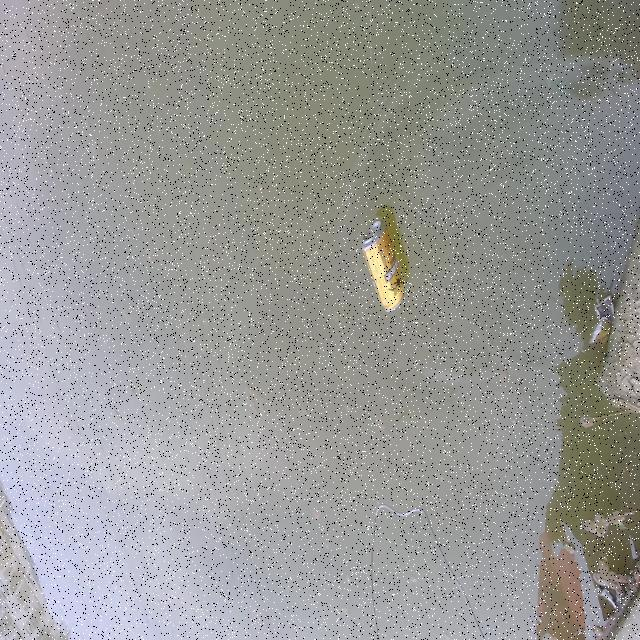Can: (361, 219, 408, 309)
